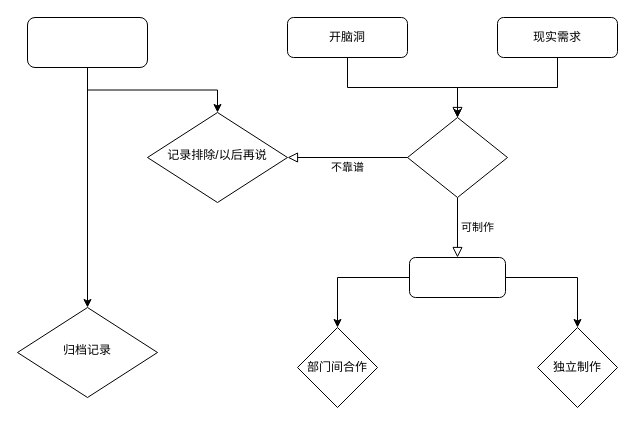
The diagram is 635 pixels wide and 425 high, and some of its shapes have lost their labels. Each missing label, with the centre of its shape:
信息汇总: (x=87, y=42)
分类: (x=457, y=277)
需求分析: (x=457, y=157)
